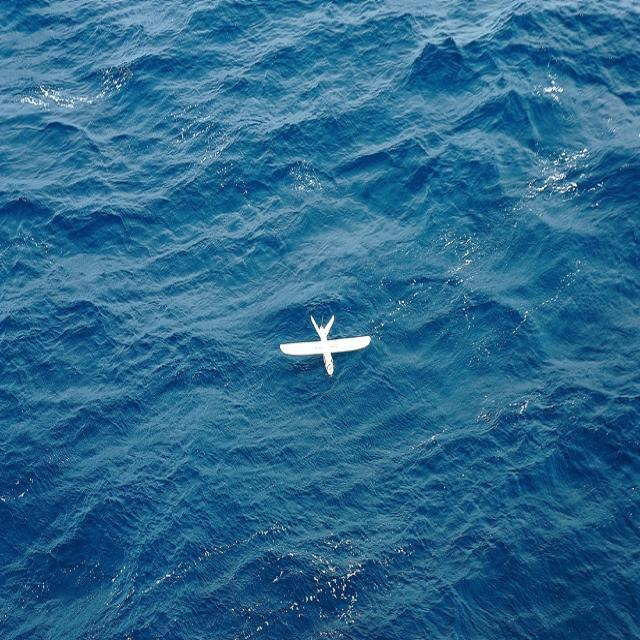iha: (304, 341, 337, 360)
